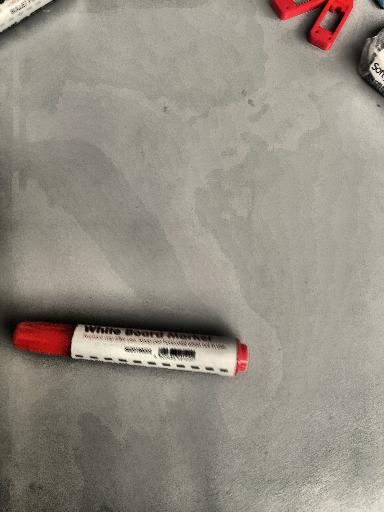marcador rojo: (12, 321, 248, 376)
